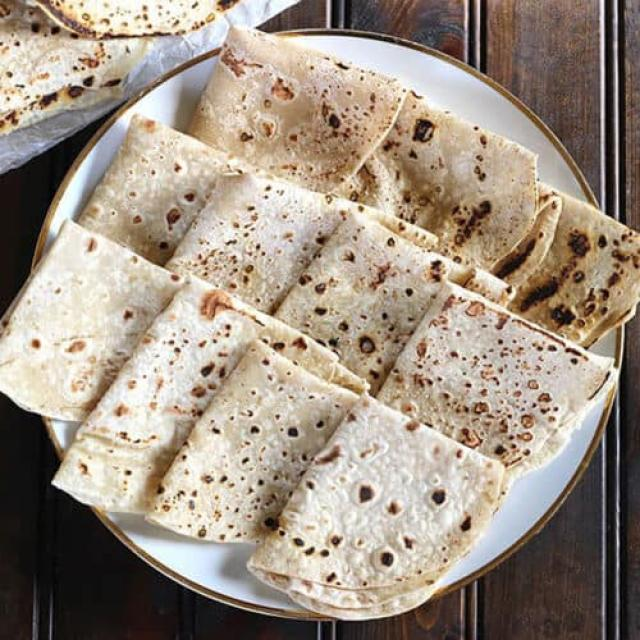ROTI: (57, 277, 361, 513), (246, 394, 502, 626), (363, 292, 623, 477), (156, 347, 361, 548), (0, 223, 174, 426), (194, 28, 404, 190), (359, 102, 551, 273), (172, 164, 352, 308), (79, 114, 228, 261), (503, 193, 639, 351)
